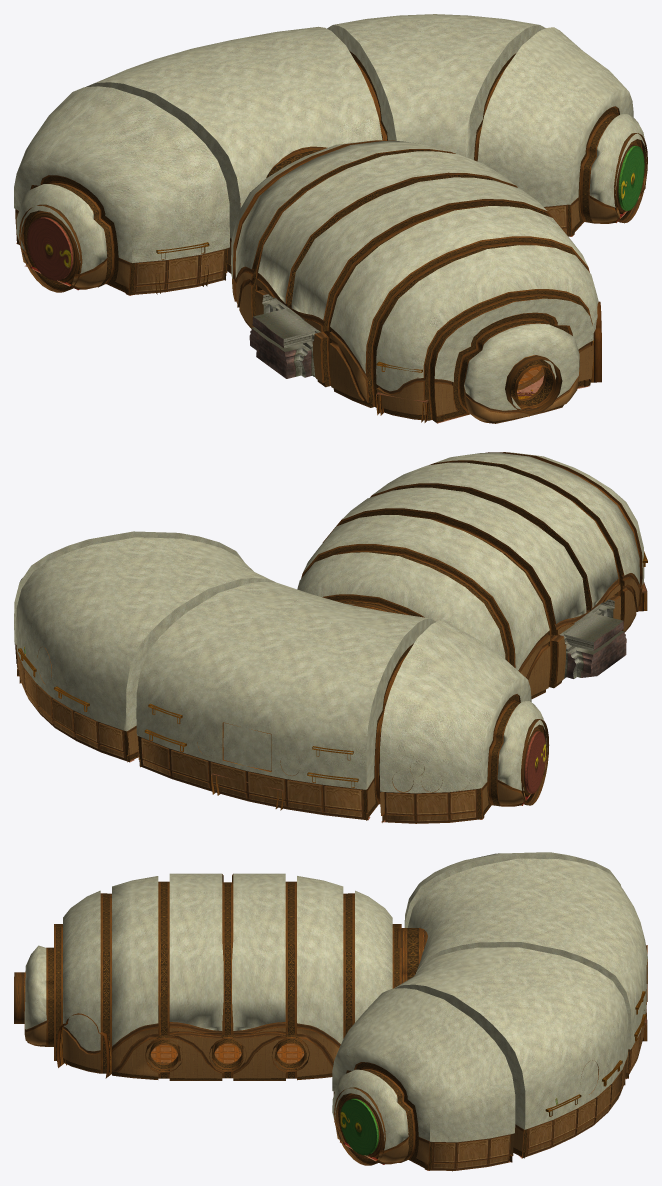
The model's file is BAGENDINTERIOR_BE_BAGEND.fbx.
3 renders of one model, top to bottom at view 1: azimuth 30°, elevation 25°; view 2: azimuth 150°, elevation 25°; view 3: azimuth 270°, elevation 25°, orthographic. The views are drawn at different scales.
Visible parts, largest first — view 1: BAGENDINTERIOR_BE_BAGEND; view 2: BAGENDINTERIOR_BE_BAGEND; view 3: BAGENDINTERIOR_BE_BAGEND.
Part boxes in pixels (x1=…): BAGENDINTERIOR_BE_BAGEND: x1=14, y1=14, x2=647, y2=423; BAGENDINTERIOR_BE_BAGEND: x1=14, y1=452, x2=647, y2=823; BAGENDINTERIOR_BE_BAGEND: x1=14, y1=852, x2=647, y2=1171.
Bounding box in the file's own units: 118177 × 33307 × 130300.
Materials: 40 (40 with a texture image).
